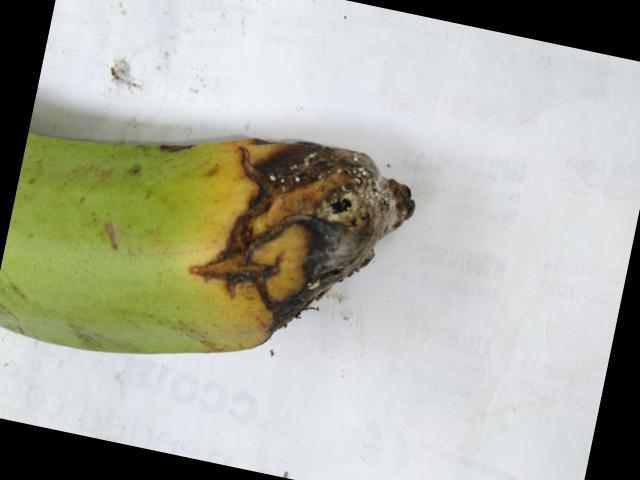rotten: (171, 109, 433, 391)
